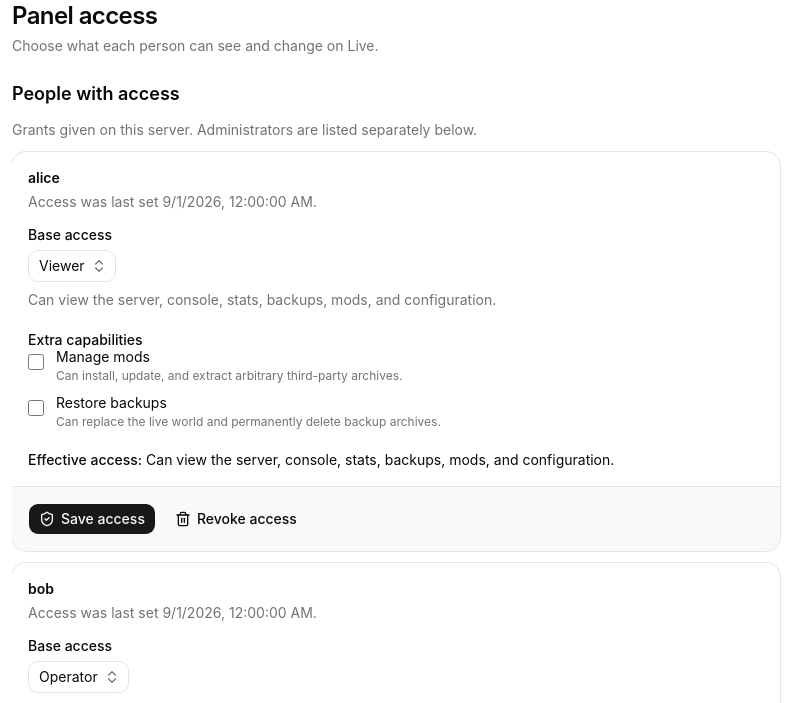
unsaved edits while another person changes › keeps an unsaved edit for one person when access is given to another
The width and height of the screenshot is (798, 703).
Click the checkbox labelled "Manage mods": (36, 362) [28,354,44,370]
(page scrolled)
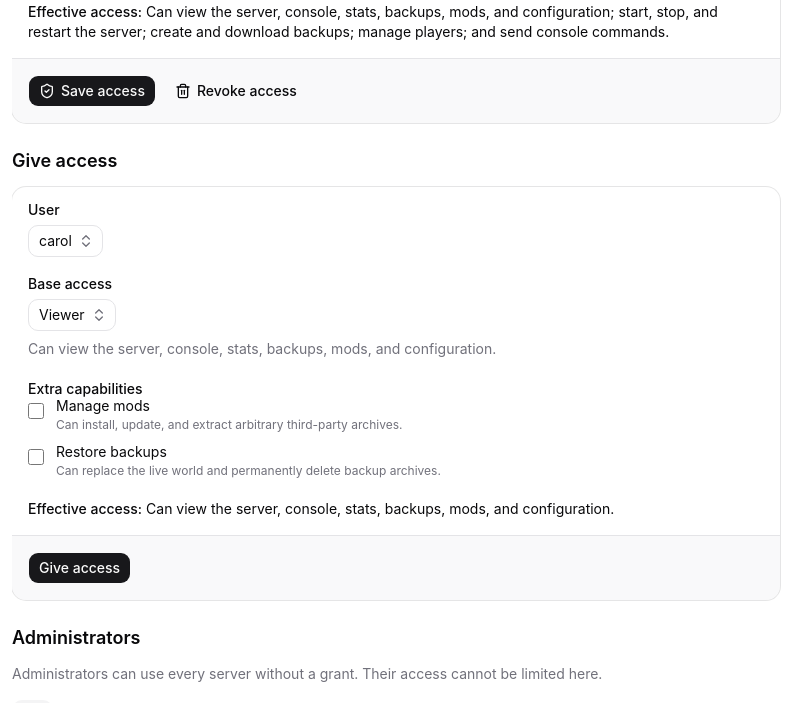
Click the button "Give access": (80, 568) [28,552,131,584]
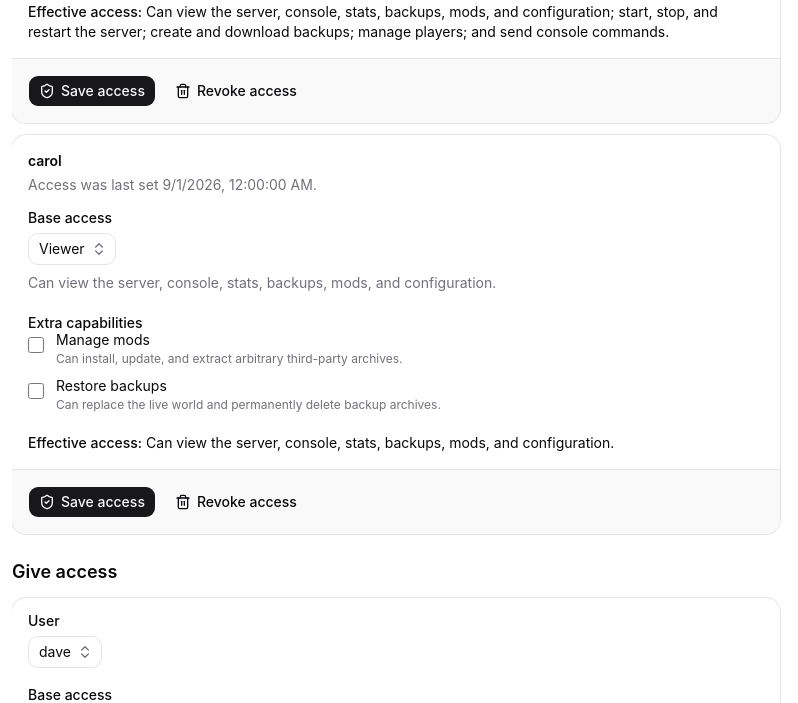
Now the button with id "new-user" reads "dave", box [28,636,102,668]
